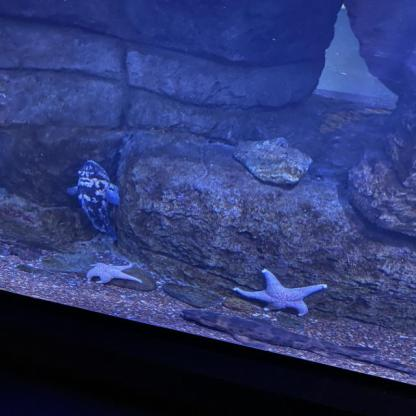fish: (68, 160, 120, 234)
shark: (179, 309, 416, 375)
starfish: (234, 270, 326, 316), (87, 263, 142, 284)
